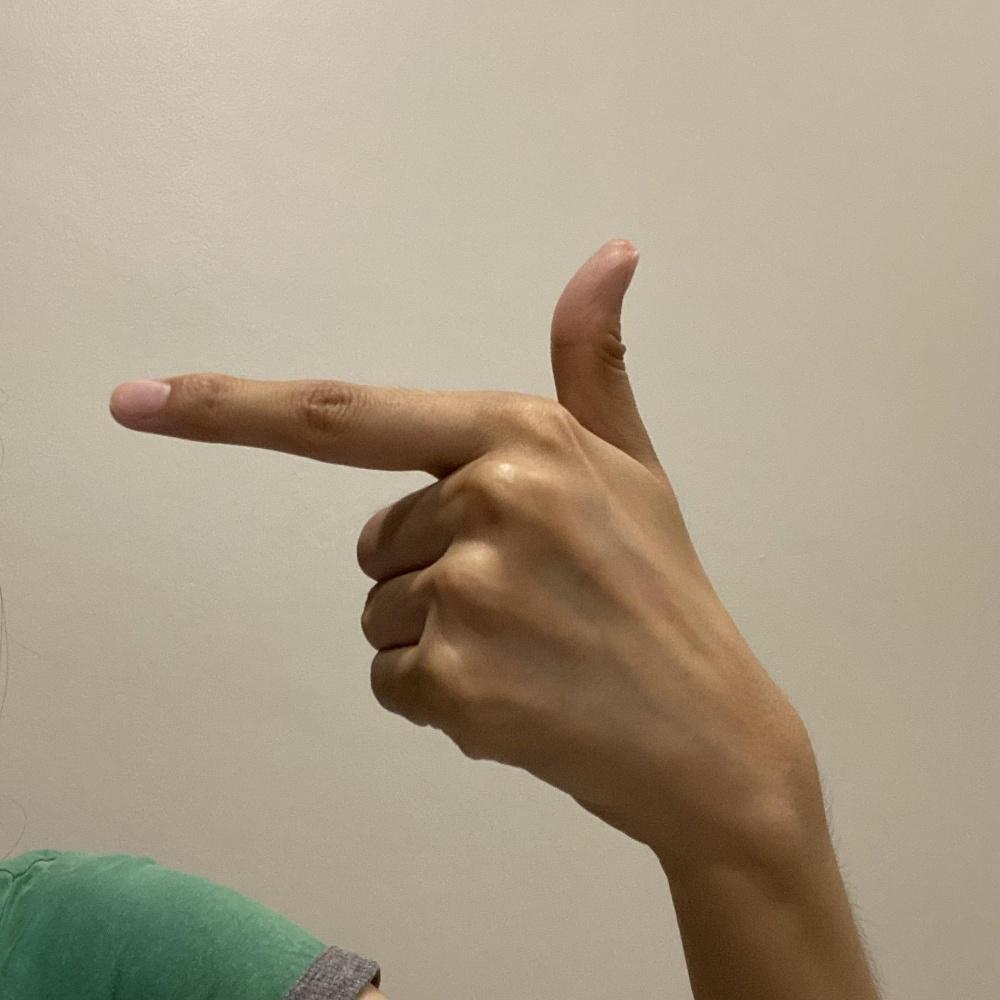g: (103, 231, 789, 855)
